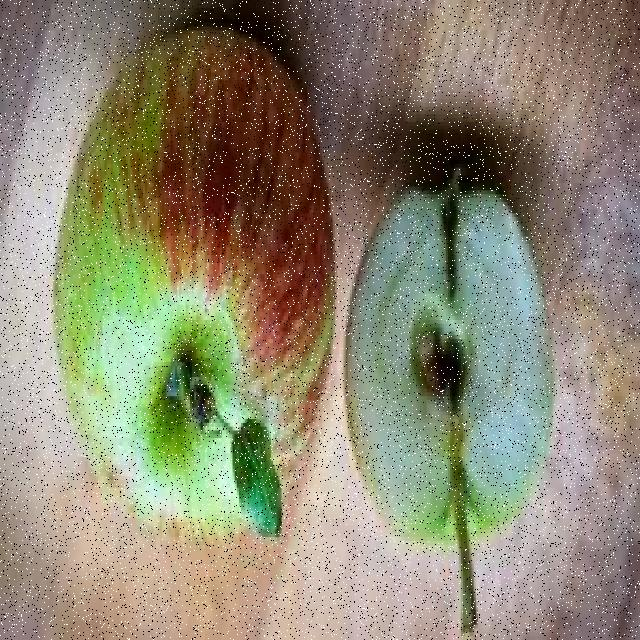Apple: (50, 24, 337, 547), (346, 178, 556, 555)
